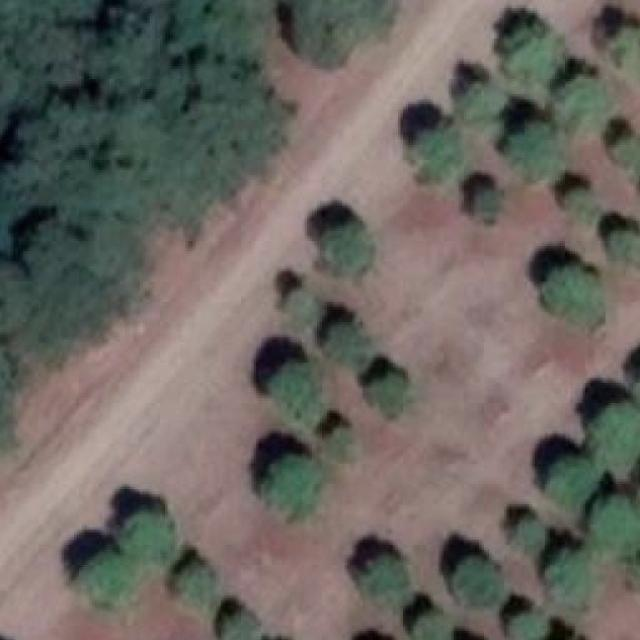Tree: (538, 259, 606, 325), (261, 444, 319, 511), (74, 552, 138, 611), (590, 393, 640, 466), (266, 360, 326, 418), (555, 72, 612, 133), (499, 26, 561, 82), (356, 545, 412, 603), (545, 553, 597, 614), (508, 122, 563, 179), (317, 221, 375, 274), (418, 122, 471, 180), (123, 508, 178, 563), (590, 494, 640, 554), (452, 550, 507, 604), (165, 557, 214, 616), (545, 457, 594, 507), (320, 317, 369, 364), (462, 84, 510, 130), (363, 363, 409, 410), (607, 21, 640, 71), (320, 416, 355, 460), (563, 185, 599, 226), (517, 512, 552, 554), (215, 610, 261, 640), (285, 292, 320, 331), (413, 605, 450, 640), (507, 608, 545, 640), (474, 188, 505, 225), (615, 225, 640, 266), (634, 363, 640, 399)
